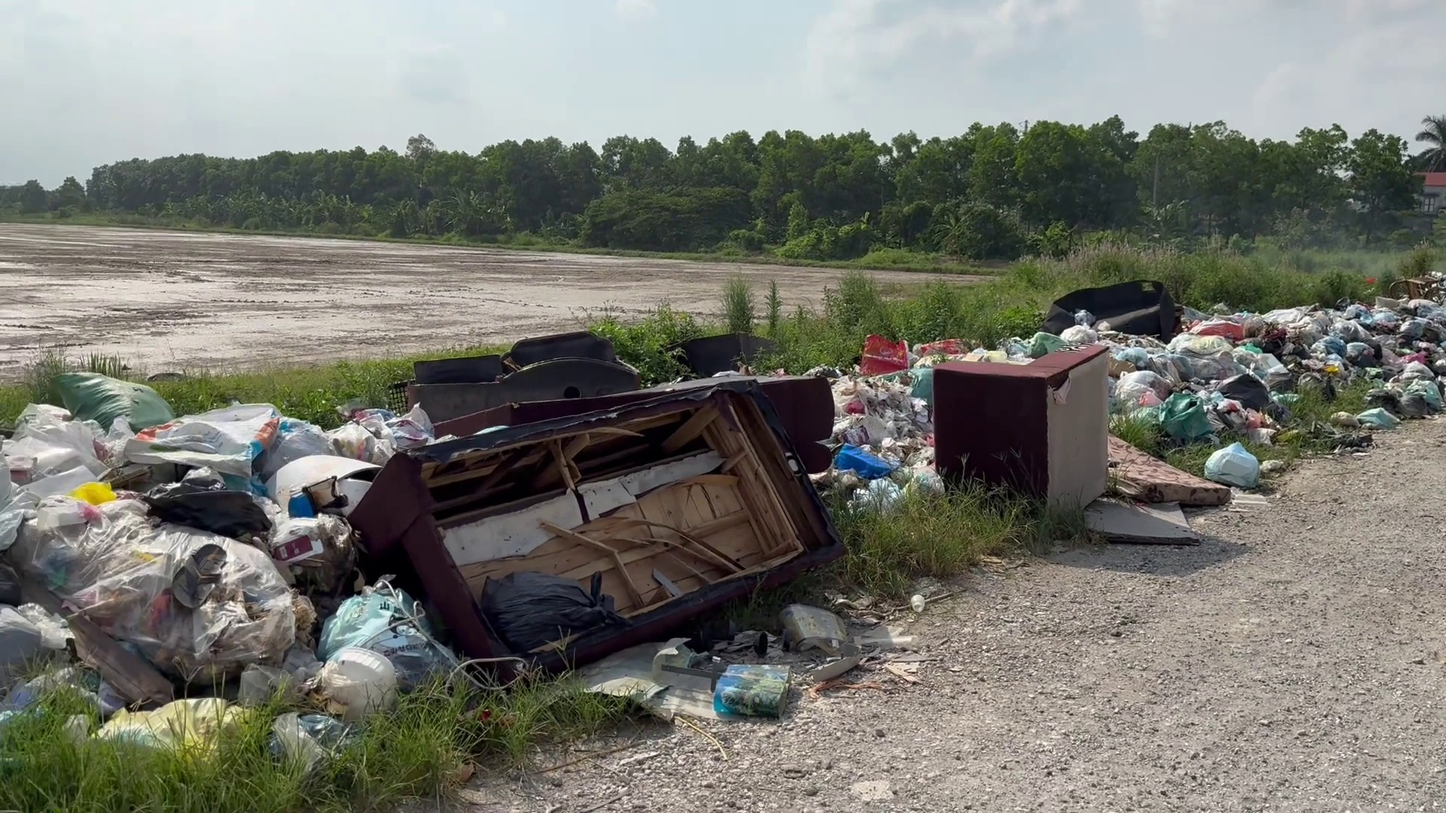garbage: (1, 591, 145, 738), (59, 368, 162, 427), (0, 427, 49, 491)
